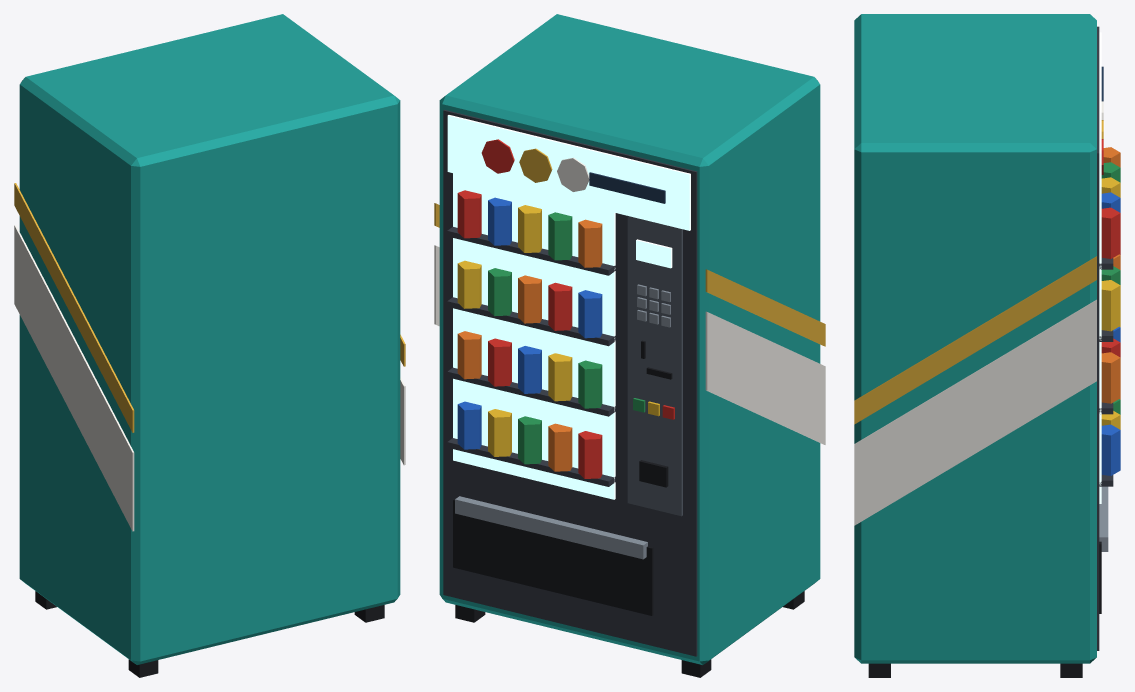
Rendered from vending_machine.glb.
3 views of the same model, side by side, from view 1: azimuth 30°, elevation 25°; view 2: azimuth 150°, elevation 25°; view 3: azimuth 270°, elevation 25° (orthographic). The views are drawn at different scales.
Visible parts, largest first — view 1: vending_machine; view 2: vending_machine; view 3: vending_machine.
Part boxes in pixels (x1,y1,x2,y2): vending_machine: [14, 14, 405, 677]; vending_machine: [434, 14, 825, 677]; vending_machine: [854, 14, 1120, 677].
Bounding box in the file's own units: 1.01 × 1.86 × 0.834.
